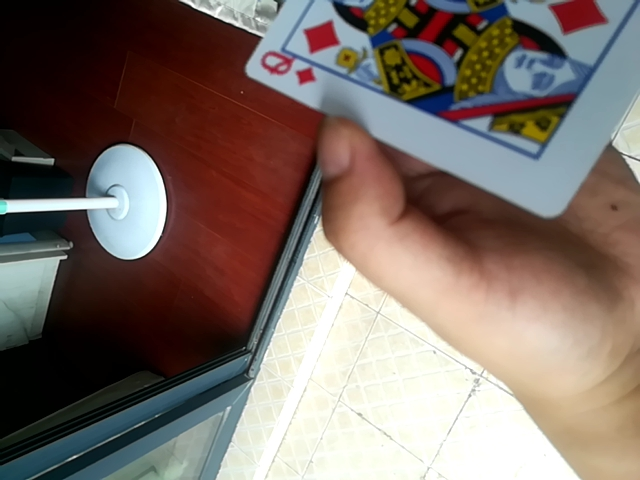fk q: (242, 0, 640, 223)
